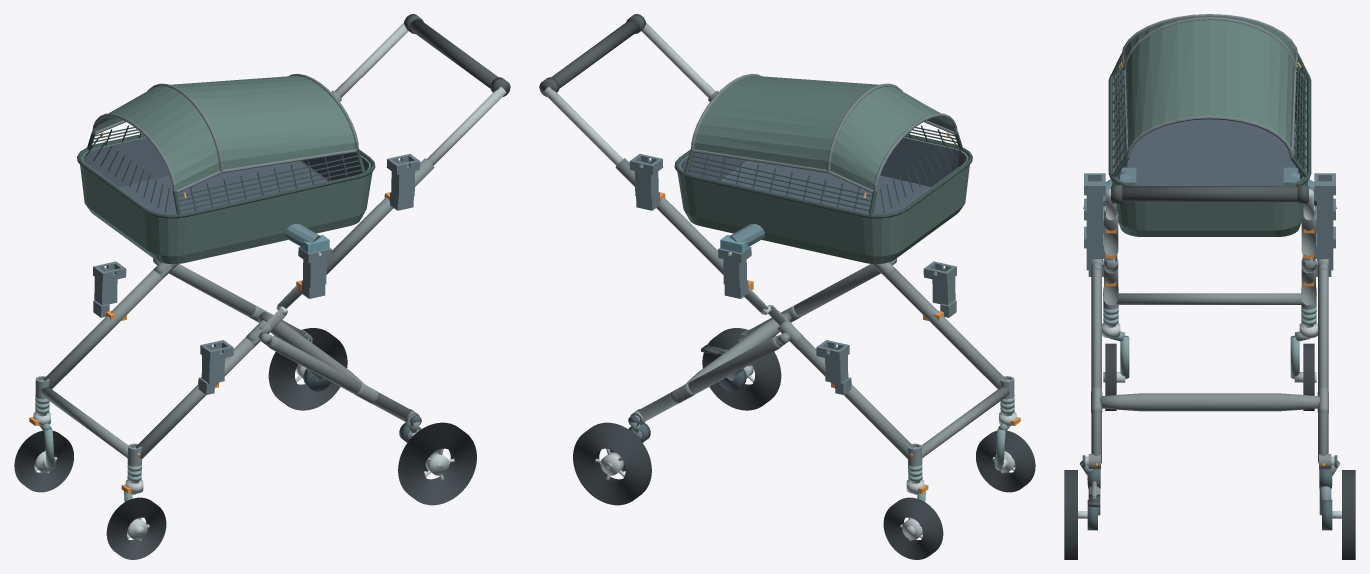
Rendered from S03_w550_state1_wheel_S.glb.
3 views of the same model, side by side, from view 1: azimuth 30°, elevation 25°; view 2: azimuth 150°, elevation 25°; view 3: azimuth 270°, elevation 25° (orthographic). The views are drawn at different scales.
Visible parts, largest first — view 1: S03_Cabin, RL_tire.002, RR_tire.002, FL_tire.002, FR_tire.002, main_lower_1.003, V46_rear_leg_-1.003, main_lower_-1.003, round_handle.002, main_upper_-1.003, Universal_Cabin_Receiver_H_-1, V46_rear_leg_1.003 (+8 smaller); view 2: S03_Cabin, RR_tire.002, RL_tire.002, FR_tire.002, FL_tire.002, main_lower_-1.003, V46_rear_leg_1.003, main_lower_1.003, round_handle.002, main_upper_1.003, Universal_Cabin_Receiver_H_1, V46_rear_leg_-1.003 (+8 smaller); view 3: S03_Cabin, V46_rearbar.003, round_handle.002, front_fixed_round_tube.002, V46_rear_leg_1.003, V46_rear_leg_-1.003, RL_tire.002, RR_tire.002, Universal_Cabin_Receiver_H_1, Universal_Cabin_Receiver_H_-1, S03_Cabin_Mount_M, FL_tire.002 (+9 smaller).
Part boxes in pixels (<box>): S03_Cabin: <box>77,73,375,264</box>; RL_tire.002: <box>398,422,476,505</box>; RR_tire.002: <box>268,328,347,410</box>; FL_tire.002: <box>106,497,166,559</box>; FR_tire.002: <box>14,430,73,492</box>; main_lower_1.003: <box>43,266,171,388</box>; V46_rear_leg_-1.003: <box>268,336,411,421</box>; main_lower_-1.003: <box>135,337,258,459</box>; round_handle.002: <box>410,19,509,95</box>; main_upper_-1.003: <box>302,158,434,280</box>; Universal_Cabin_Receiver_H_-1: <box>386,154,420,210</box>; V46_rear_leg_1.003: <box>169,264,308,339</box>; S03_Cabin: <box>674,73,972,264</box>; RR_tire.002: <box>573,422,651,505</box>; RL_tire.002: <box>702,328,781,410</box>; FR_tire.002: <box>883,497,943,559</box>; FL_tire.002: <box>976,430,1035,492</box>; main_lower_-1.003: <box>878,266,1006,388</box>; V46_rear_leg_1.003: <box>638,336,781,421</box>; main_lower_1.003: <box>791,337,914,459</box>; round_handle.002: <box>540,19,639,95</box>; main_upper_1.003: <box>615,158,747,280</box>; Universal_Cabin_Receiver_H_1: <box>629,154,663,210</box>; V46_rear_leg_-1.003: <box>741,264,880,339</box>; S03_Cabin: <box>1108,14,1311,236</box>; V46_rearbar.003: <box>1100,393,1319,411</box>; round_handle.002: <box>1111,186,1308,201</box>; front_fixed_round_tube.002: <box>1116,293,1303,304</box>; V46_rear_leg_1.003: <box>1318,268,1328,463</box>; V46_rear_leg_-1.003: <box>1091,268,1101,463</box>; RL_tire.002: <box>1064,470,1077,559</box>; RR_tire.002: <box>1342,470,1355,559</box>; Universal_Cabin_Receiver_H_1: <box>1314,173,1335,233</box>; Universal_Cabin_Receiver_H_-1: <box>1084,173,1105,233</box>; S03_Cabin_Mount_M: <box>1083,167,1336,208</box>; FL_tire.002: <box>1105,343,1116,410</box>.
Bounding box in the file's own units: 1.11 × 1.08 × 0.6471.
